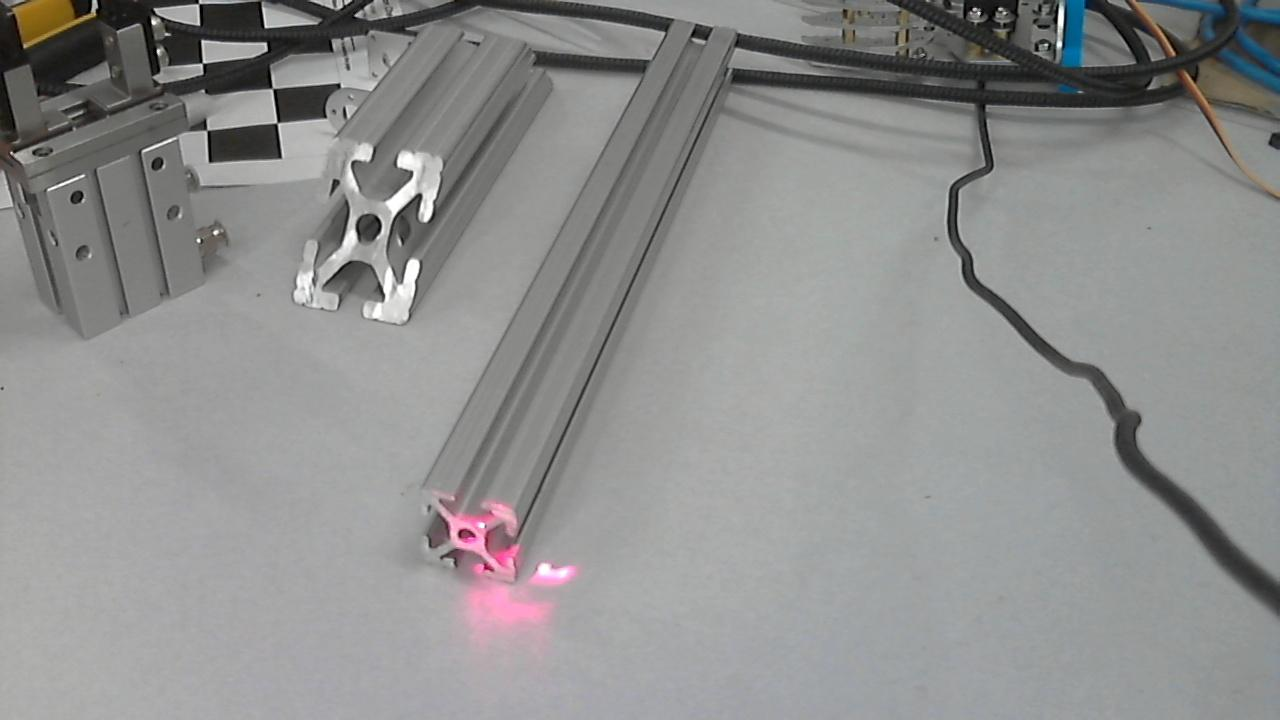Object - extruded aluminum profile - Material metal - Pdfname IJiB5jbMhrV7: (437, 479, 522, 583)
